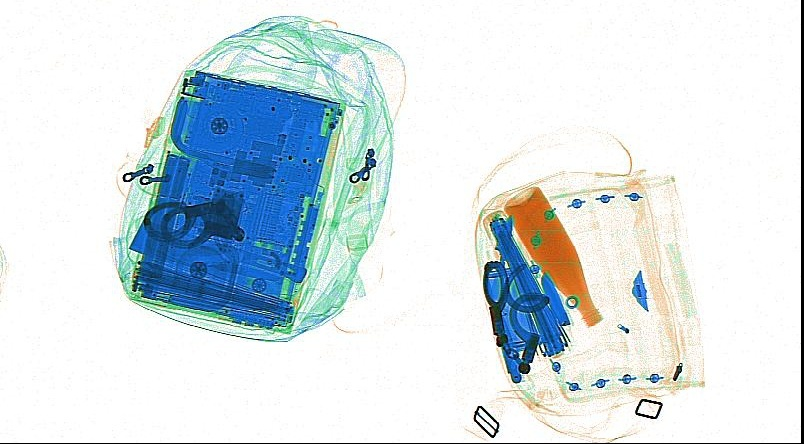handcuffs: (482, 258, 546, 375), (142, 195, 244, 251)
knife: (128, 213, 306, 282), (490, 305, 524, 384), (488, 212, 513, 302), (538, 268, 572, 328)
zippooil: (479, 260, 540, 355)
